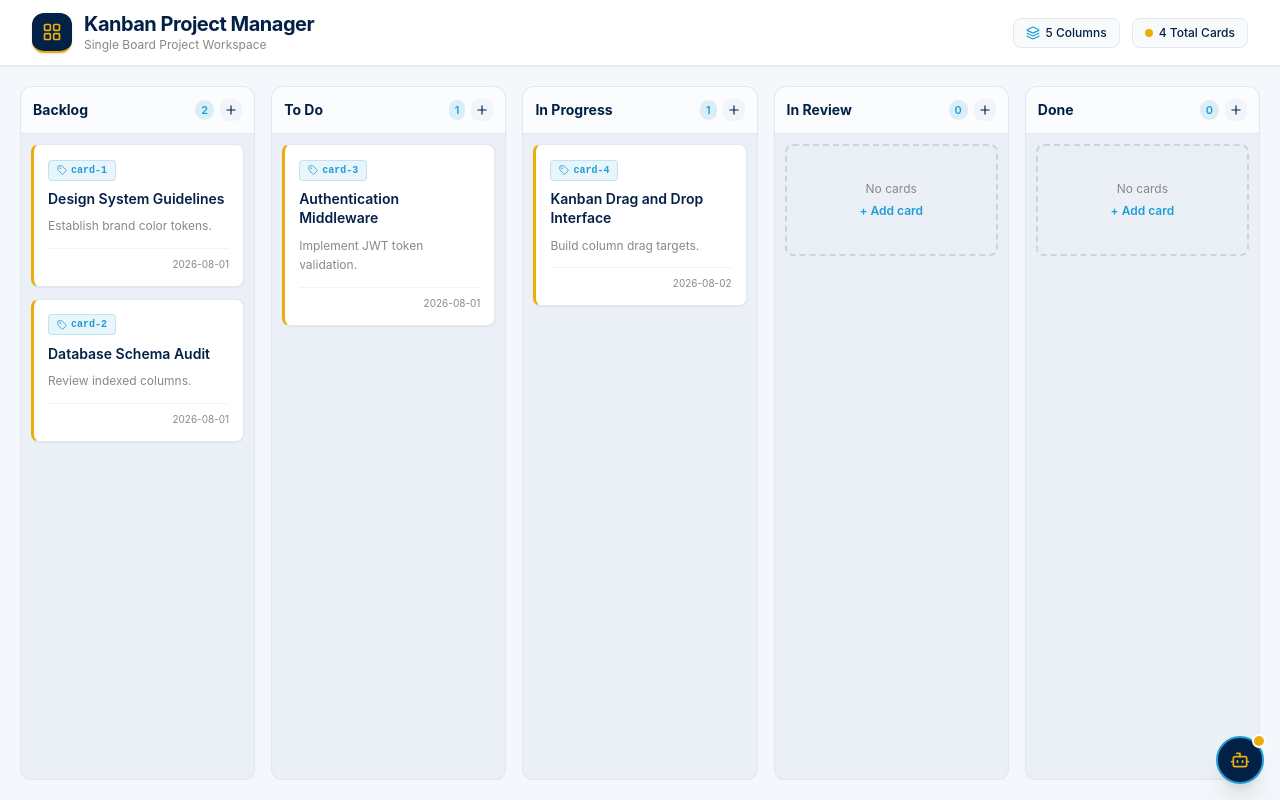
Scenario: KanbanBoard Unit Tests › allows inline renaming of a column
Click the heading with test id "column-title-col-1" at (60,110), box [33,100,88,120]
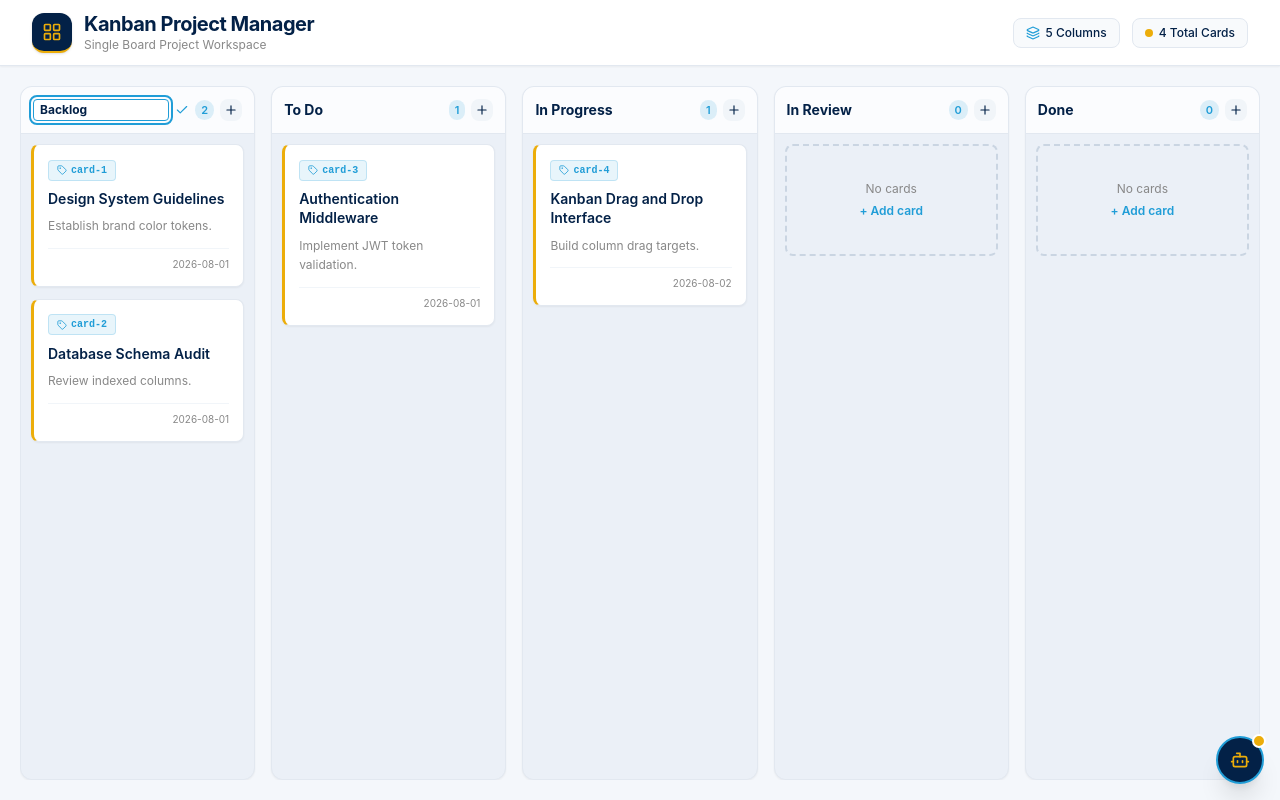
Now the field with test id "column-rename-input-col-1" is shown
Replace the text in the field with test id "column-rename-input-col-1" with "Product Backlog" at (101,110), box [33,99,169,121]
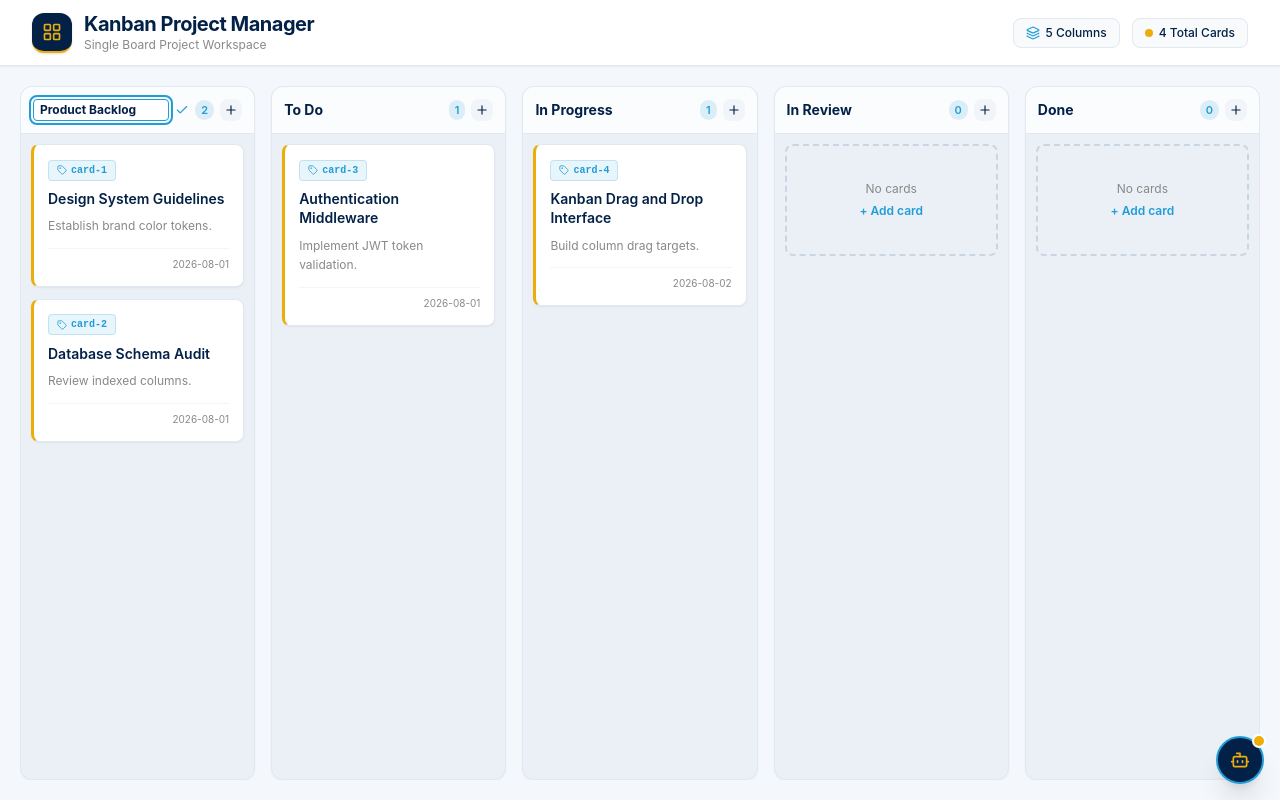
Press Enter in the field with test id "column-rename-input-col-1", box [33,99,169,121]
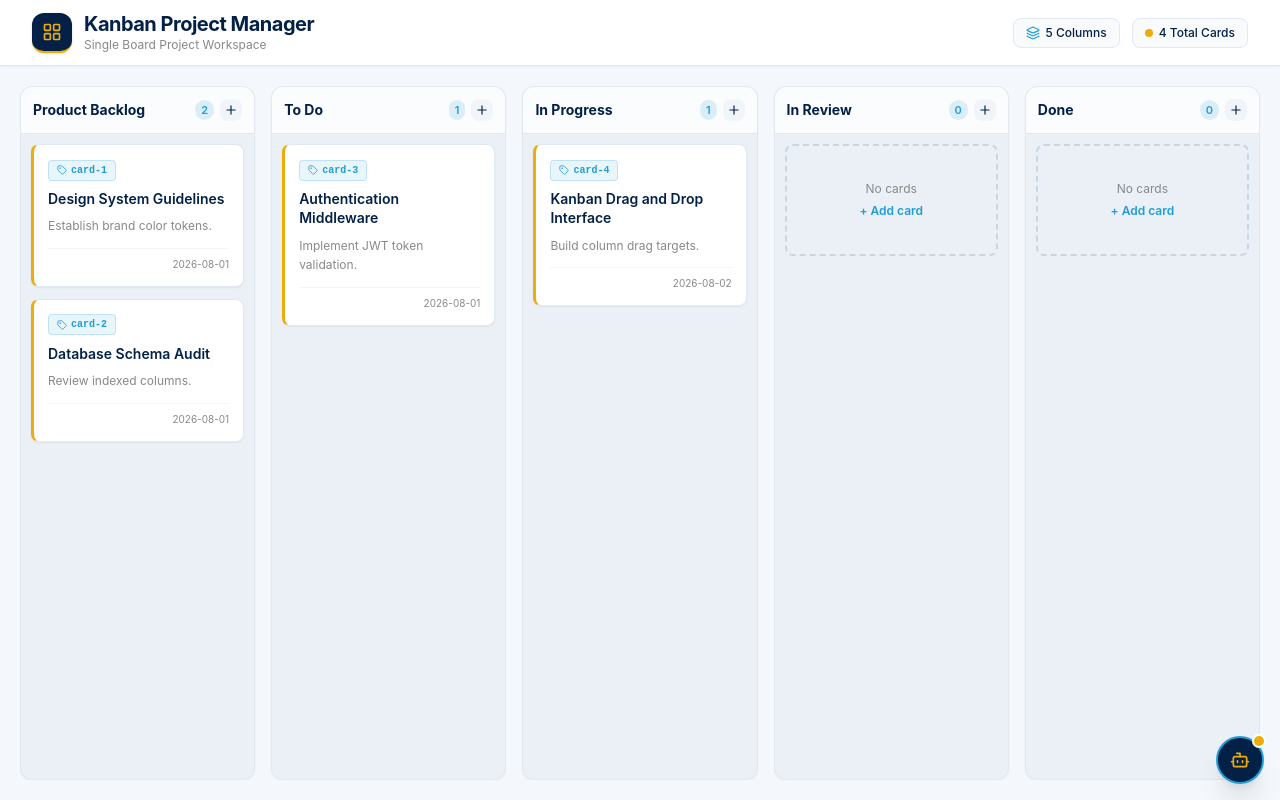
Now the heading "Product Backlog" is shown, box [33,100,145,120]
